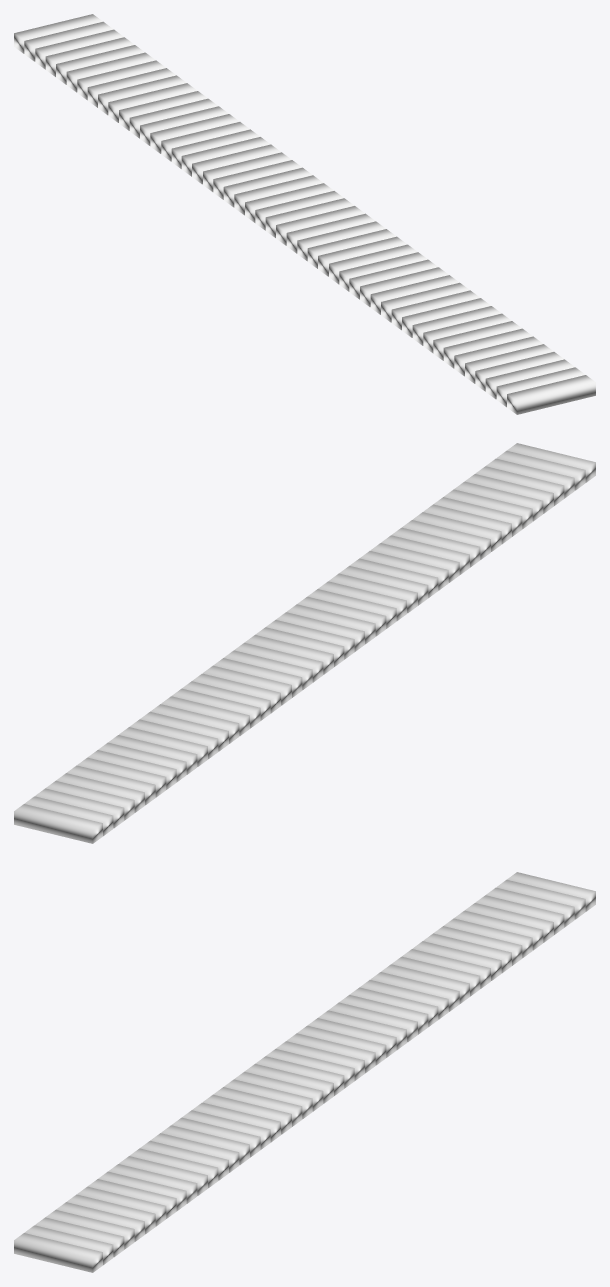
File: fixedkeys.glb
The picture shows the model from 3 angles, top to bottom: view 1: azimuth 30°, elevation 25°; view 2: azimuth 150°, elevation 25°; view 3: azimuth 330°, elevation 25°; orthographic projection.
Visible parts, largest first — view 1: keys; view 2: keys; view 3: keys.
Part boxes in pixels (box(x1,y1,x2,y2)): keys: box(14, 14, 595, 414); keys: box(14, 443, 595, 843); keys: box(14, 872, 595, 1272).
Size of the model in its own units: 0.1436 by 0.0234 by 1.59.
Materials: 1 (1 with a texture image).
